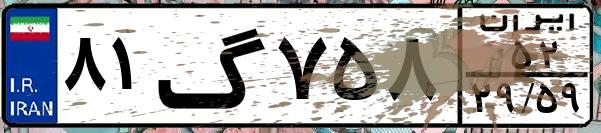1: (110, 28, 156, 98)
2: (537, 27, 568, 80), (470, 70, 495, 125)
5: (330, 28, 385, 110), (508, 27, 537, 80), (535, 70, 560, 125)
7: (270, 28, 330, 110)
8: (385, 28, 445, 110), (57, 26, 110, 100)
9: (560, 70, 590, 125), (495, 70, 520, 125)
گ: (156, 12, 270, 120)
